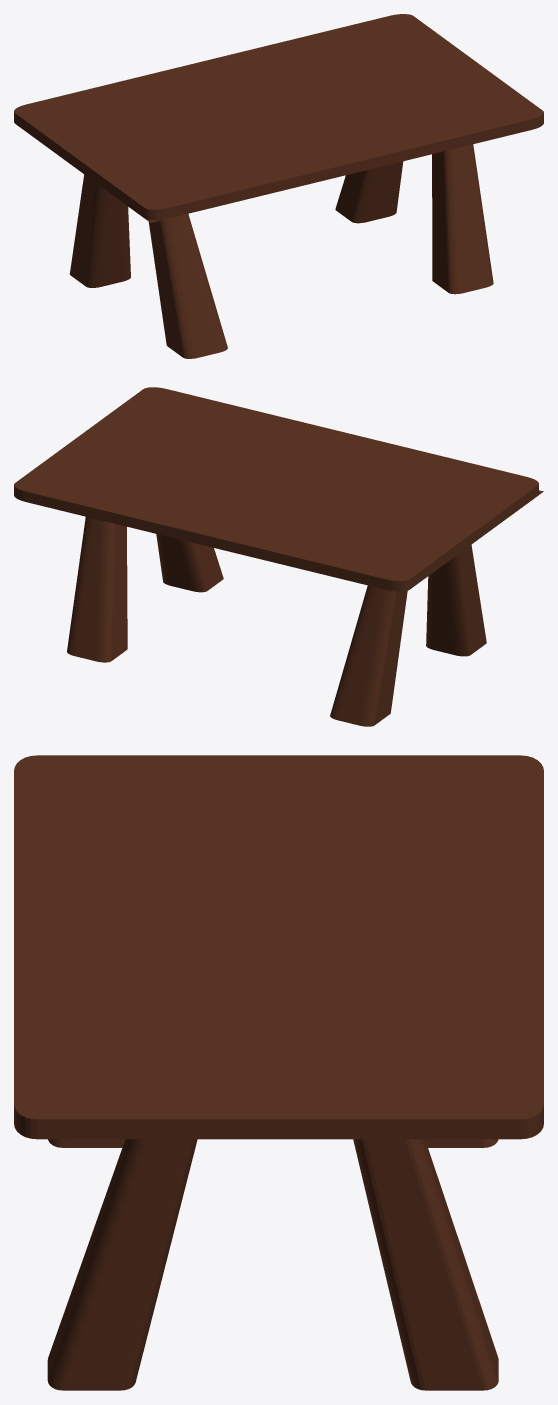
File: tableOptionalInterest.fbx
3 views of the same model, one above another, from view 1: azimuth 30°, elevation 25°; view 2: azimuth 150°, elevation 25°; view 3: azimuth 270°, elevation 25° (orthographic). The views are drawn at different scales.
Visible parts, largest first — view 1: Cube; view 2: Cube; view 3: Cube.
Part boxes in pixels (left/top/right/bottom): Cube: left=14, top=14, right=543, bottom=358; Cube: left=14, top=387, right=543, bottom=726; Cube: left=14, top=755, right=543, bottom=1390.
Size of the model in its own units: 1606 by 639 by 989.
